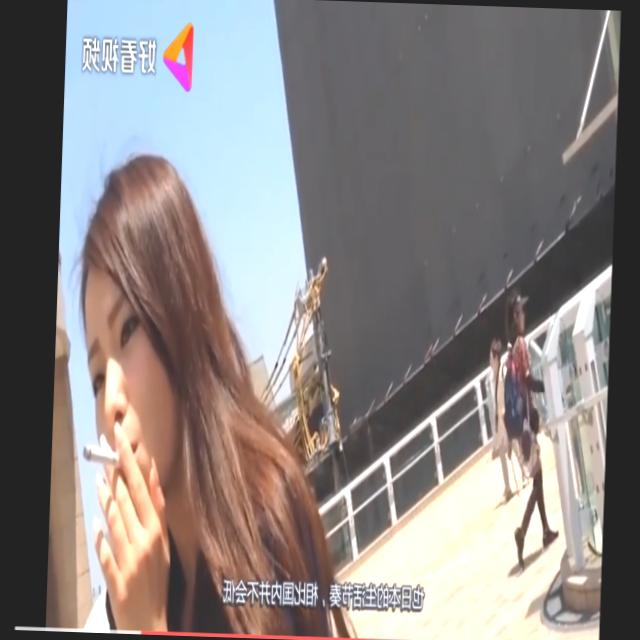smoke: (81, 439, 120, 468)
